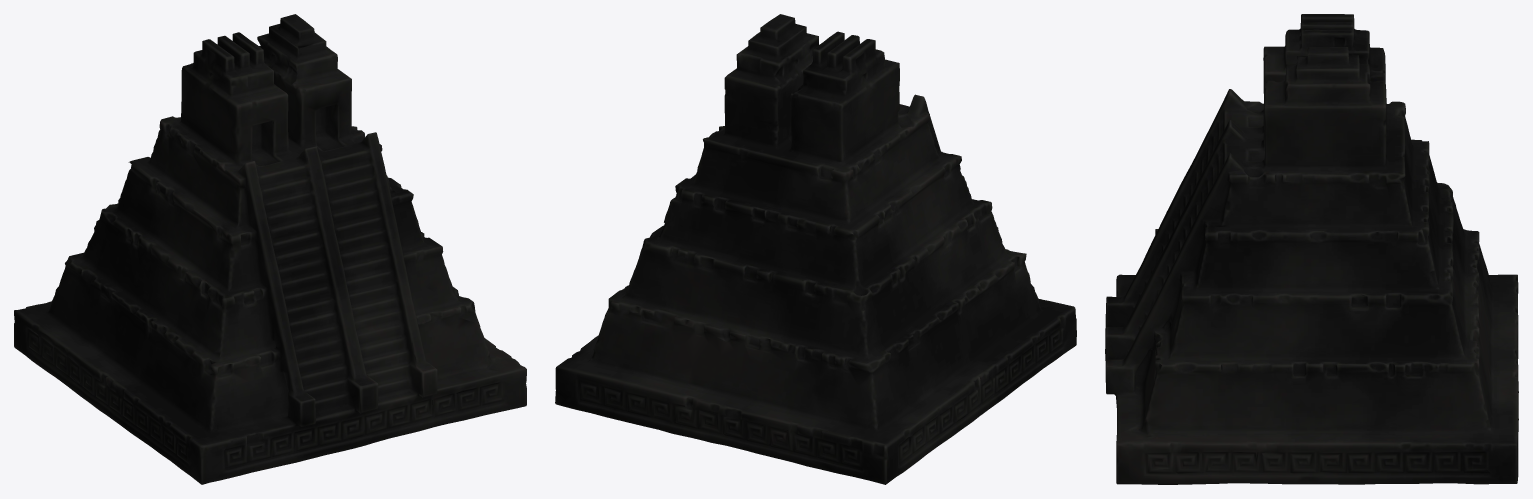
File: rook-basalt.glb
3 views of the same model, side by side, from view 1: azimuth 30°, elevation 25°; view 2: azimuth 150°, elevation 25°; view 3: azimuth 270°, elevation 25° (orthographic). The views are drawn at different scales.
Visible parts, largest first — view 1: rook; view 2: rook; view 3: rook.
Boxes of the visible parts, x1=… form: rook: x1=14, y1=14, x2=526, y2=484; rook: x1=555, y1=14, x2=1076, y2=484; rook: x1=1105, y1=14, x2=1518, y2=484.
Bounding box in the file's own units: 0.7628 × 0.7666 × 0.7828.
Materials: 1 (1 with a texture image).
